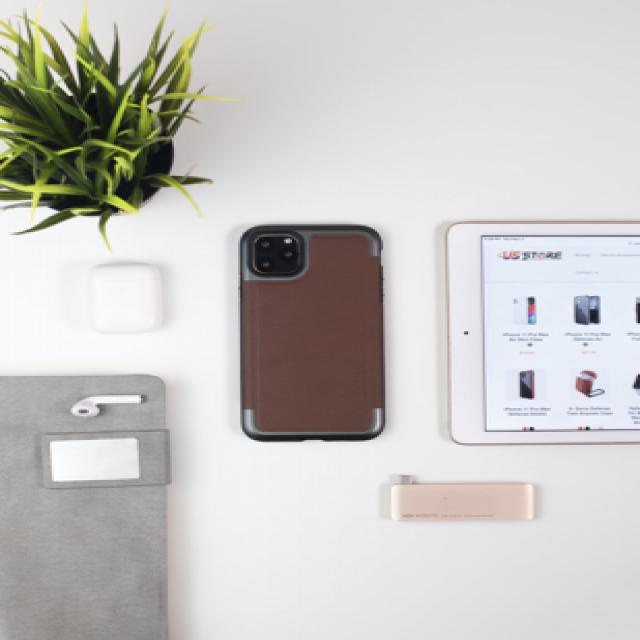cellphone: (238, 223, 385, 442)
